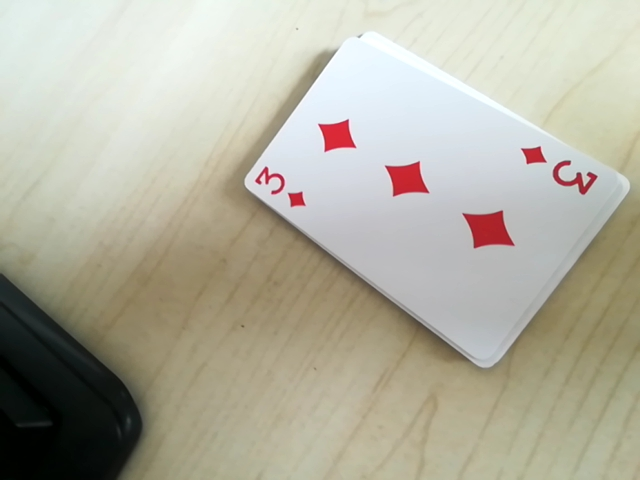fk 3: (520, 143, 603, 199), (245, 165, 308, 212)
